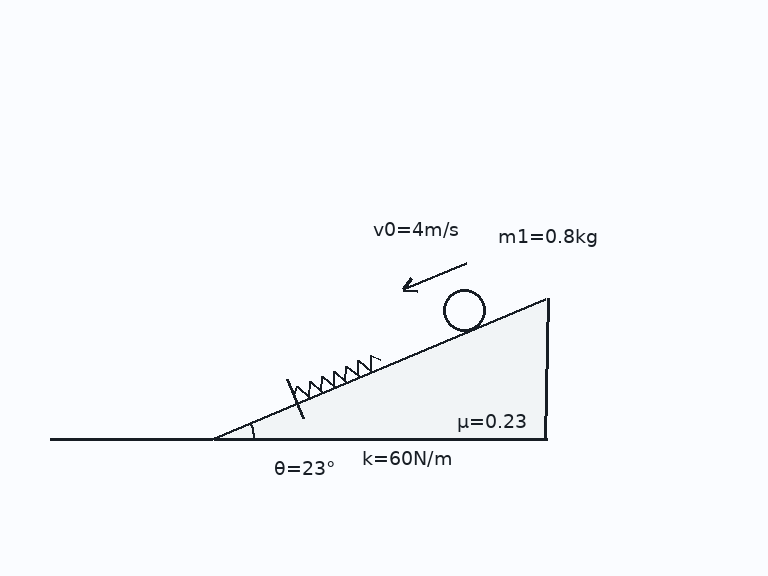ball: (441, 287, 487, 333)
ramp: (212, 296, 548, 441)
spring: (292, 353, 382, 399)
